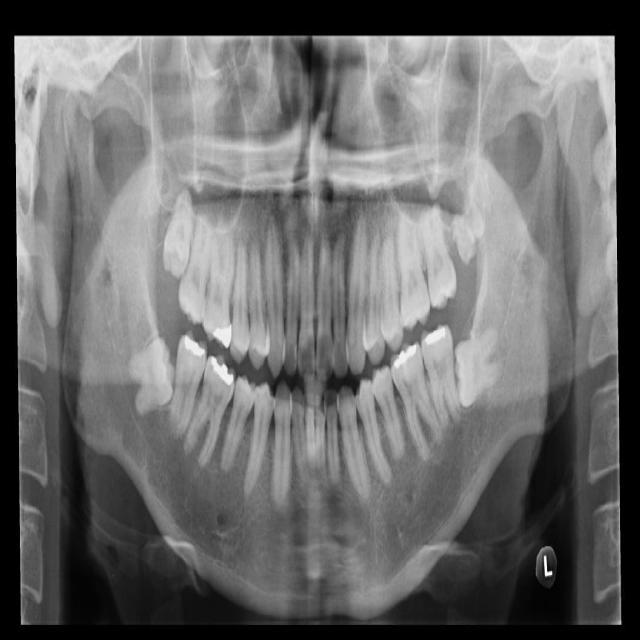3M ESPE Implant: (160, 189, 197, 280)
52: (191, 349, 250, 407), (171, 329, 212, 385), (385, 340, 429, 392), (418, 323, 457, 370), (201, 292, 232, 348)
73: (589, 544, 593, 564)
BioHorizons Implant: (417, 200, 460, 310)
BioLife Implant: (440, 185, 498, 266)
Biomet 3i Implant: (451, 328, 509, 409)
Blue Sky Bio Implant: (418, 322, 465, 433)
Caries: (173, 199, 220, 327)
Implant: (167, 330, 210, 439)
Keystone Dental Implant: (122, 335, 183, 415)
